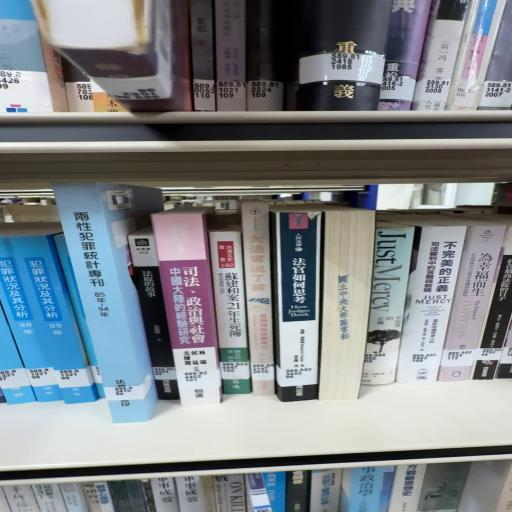backward: (320, 206, 376, 401)
book: (154, 211, 228, 409), (129, 224, 184, 402), (276, 214, 326, 409), (360, 231, 418, 394), (208, 220, 253, 400), (243, 202, 278, 405), (217, 1, 249, 112), (192, 2, 220, 113)
